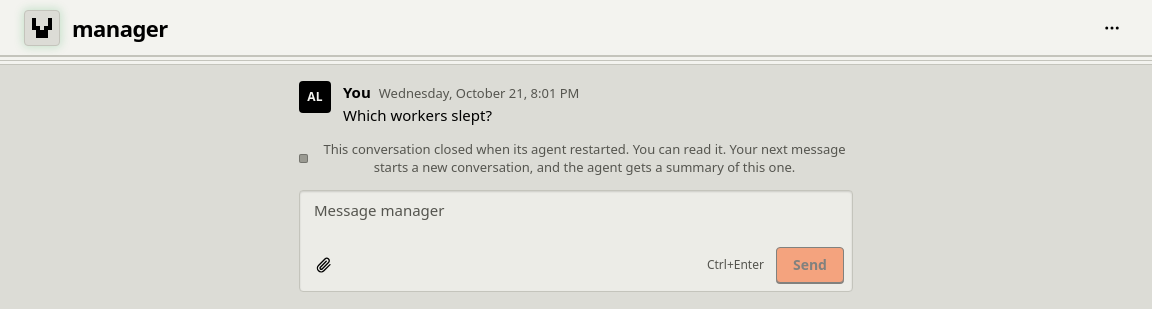
Scenario: an archived conversation with an agent › shows the line, and the next message starts a new conversation
In the text box with id "composer": (576, 217) left=300, top=191, right=852, bottom=243, type "Again"
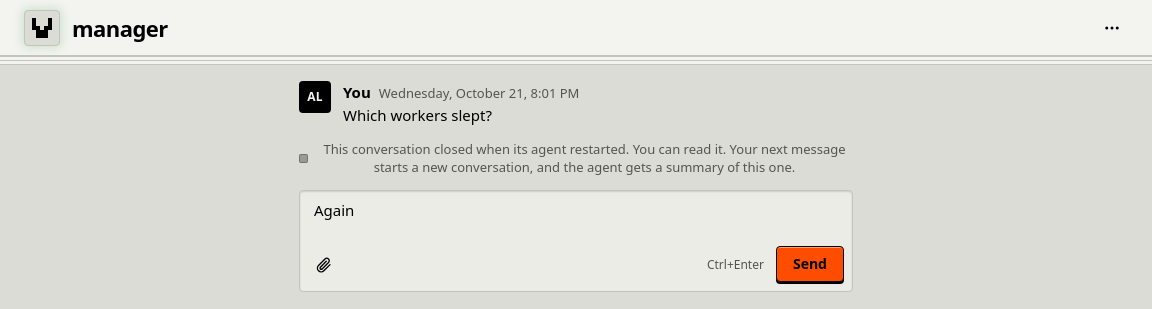
Press Enter in the text box with id "composer", box left=300, top=191, right=852, bottom=243
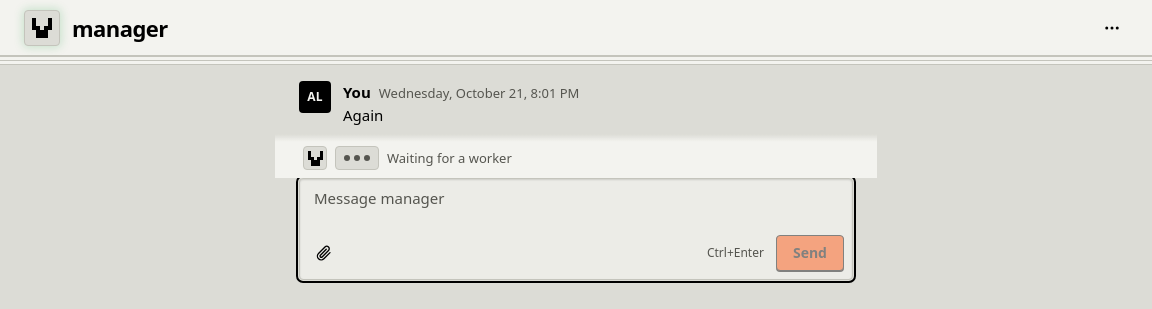
Result: the text "This conversation closed when its agent restarted. You can read it. Your next message starts a new conversation, and the agent gets a summary of this one." is gone
